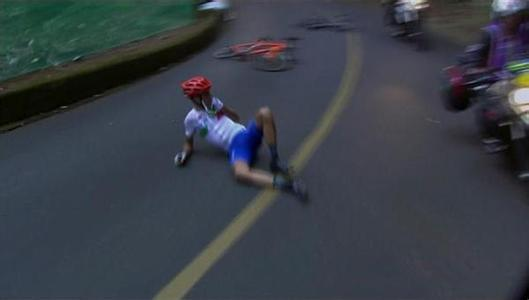fall: (168, 63, 316, 205)
